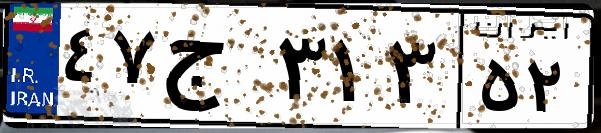1: (330, 28, 385, 110)
2: (525, 38, 570, 115)
3: (270, 28, 330, 110), (385, 28, 445, 110)
4: (57, 26, 110, 100)
5: (475, 38, 525, 113)
7: (110, 28, 158, 98)
ج: (158, 20, 270, 120)
